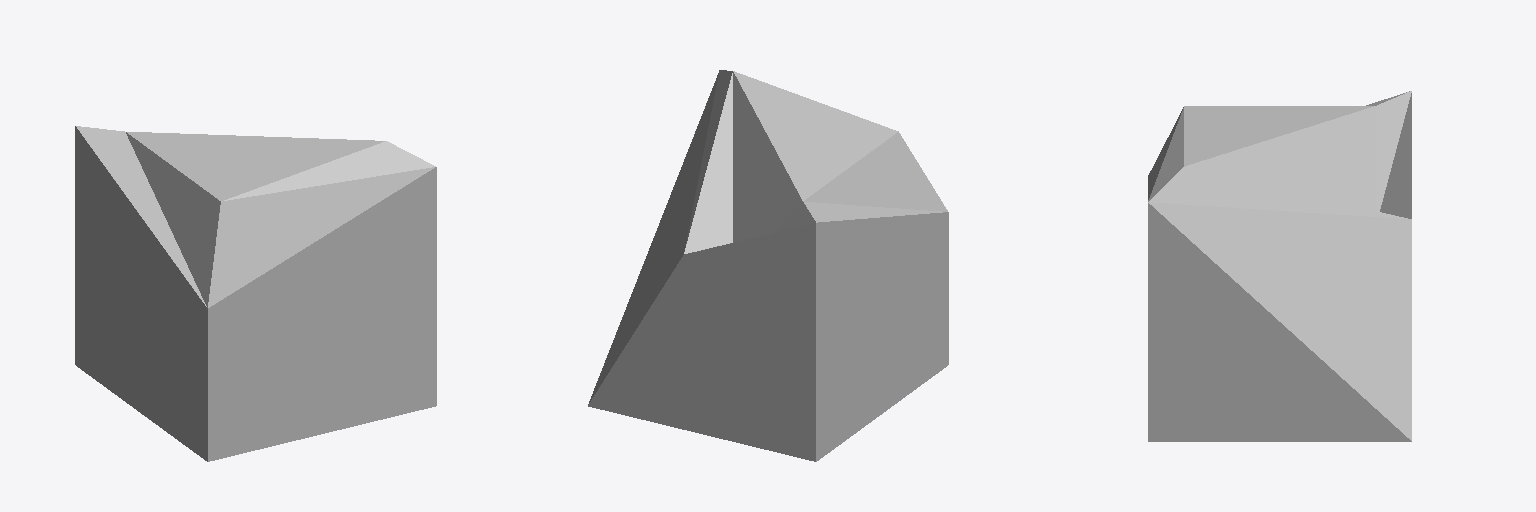
The picture shows the model from 3 angles: view 1: azimuth 30°, elevation 25°; view 2: azimuth 150°, elevation 25°; view 3: azimuth 270°, elevation 25°; orthographic projection.
Visible parts, largest first — view 1: 立方体; view 2: 立方体; view 3: 立方体.
Boxes of the visible parts, box(x1,y1,x2,y2) form: 立方体: box(75, 126, 436, 461); 立方体: box(588, 70, 948, 461); 立方体: box(1148, 91, 1411, 441).
Size of the model in its own units: 200 by 217 by 200.